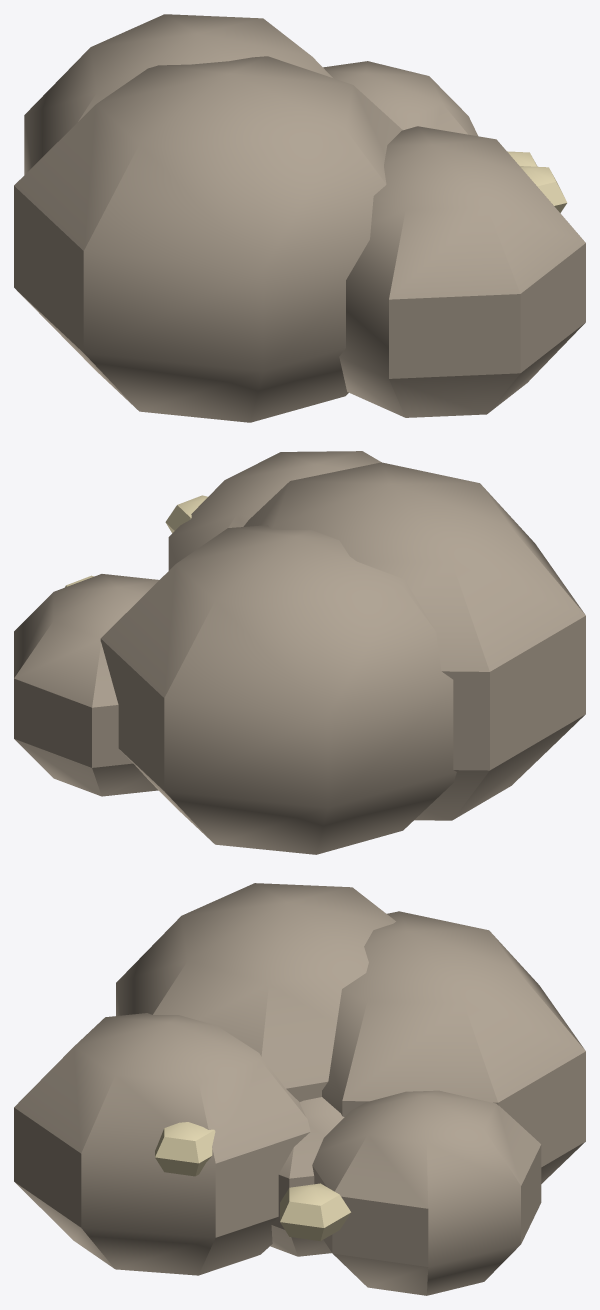
Rendered from rock_sunstone.gltf.
The picture shows the model from 3 angles, top to bottom: view 1: azimuth 30°, elevation 25°; view 2: azimuth 150°, elevation 25°; view 3: azimuth 270°, elevation 25°; orthographic projection. The views are drawn at different scales.
Visible parts, largest first — view 1: Body; view 2: Body; view 3: Body.
Part boxes in pixels (x1,y1,x2,y2): Body: (14,14,585,422); Body: (14,451,585,854); Body: (14,883,585,1295).
Size of the model in its own units: 1.38 by 0.864 by 1.45.
